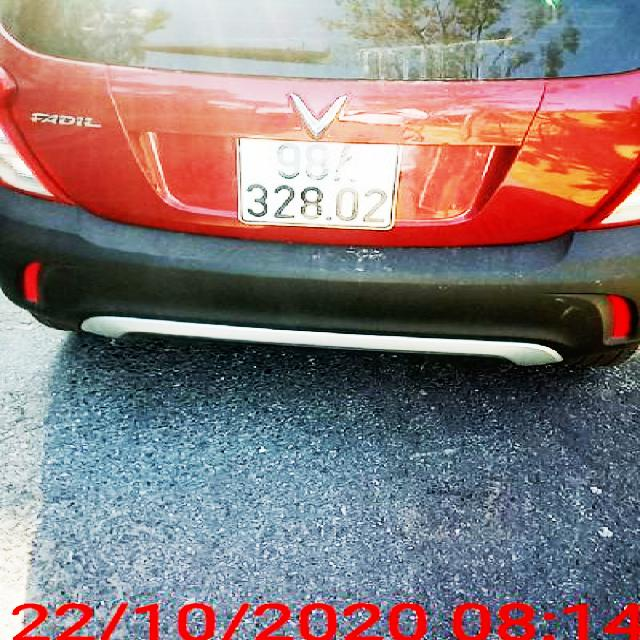license_plate: (244, 138, 403, 232)
